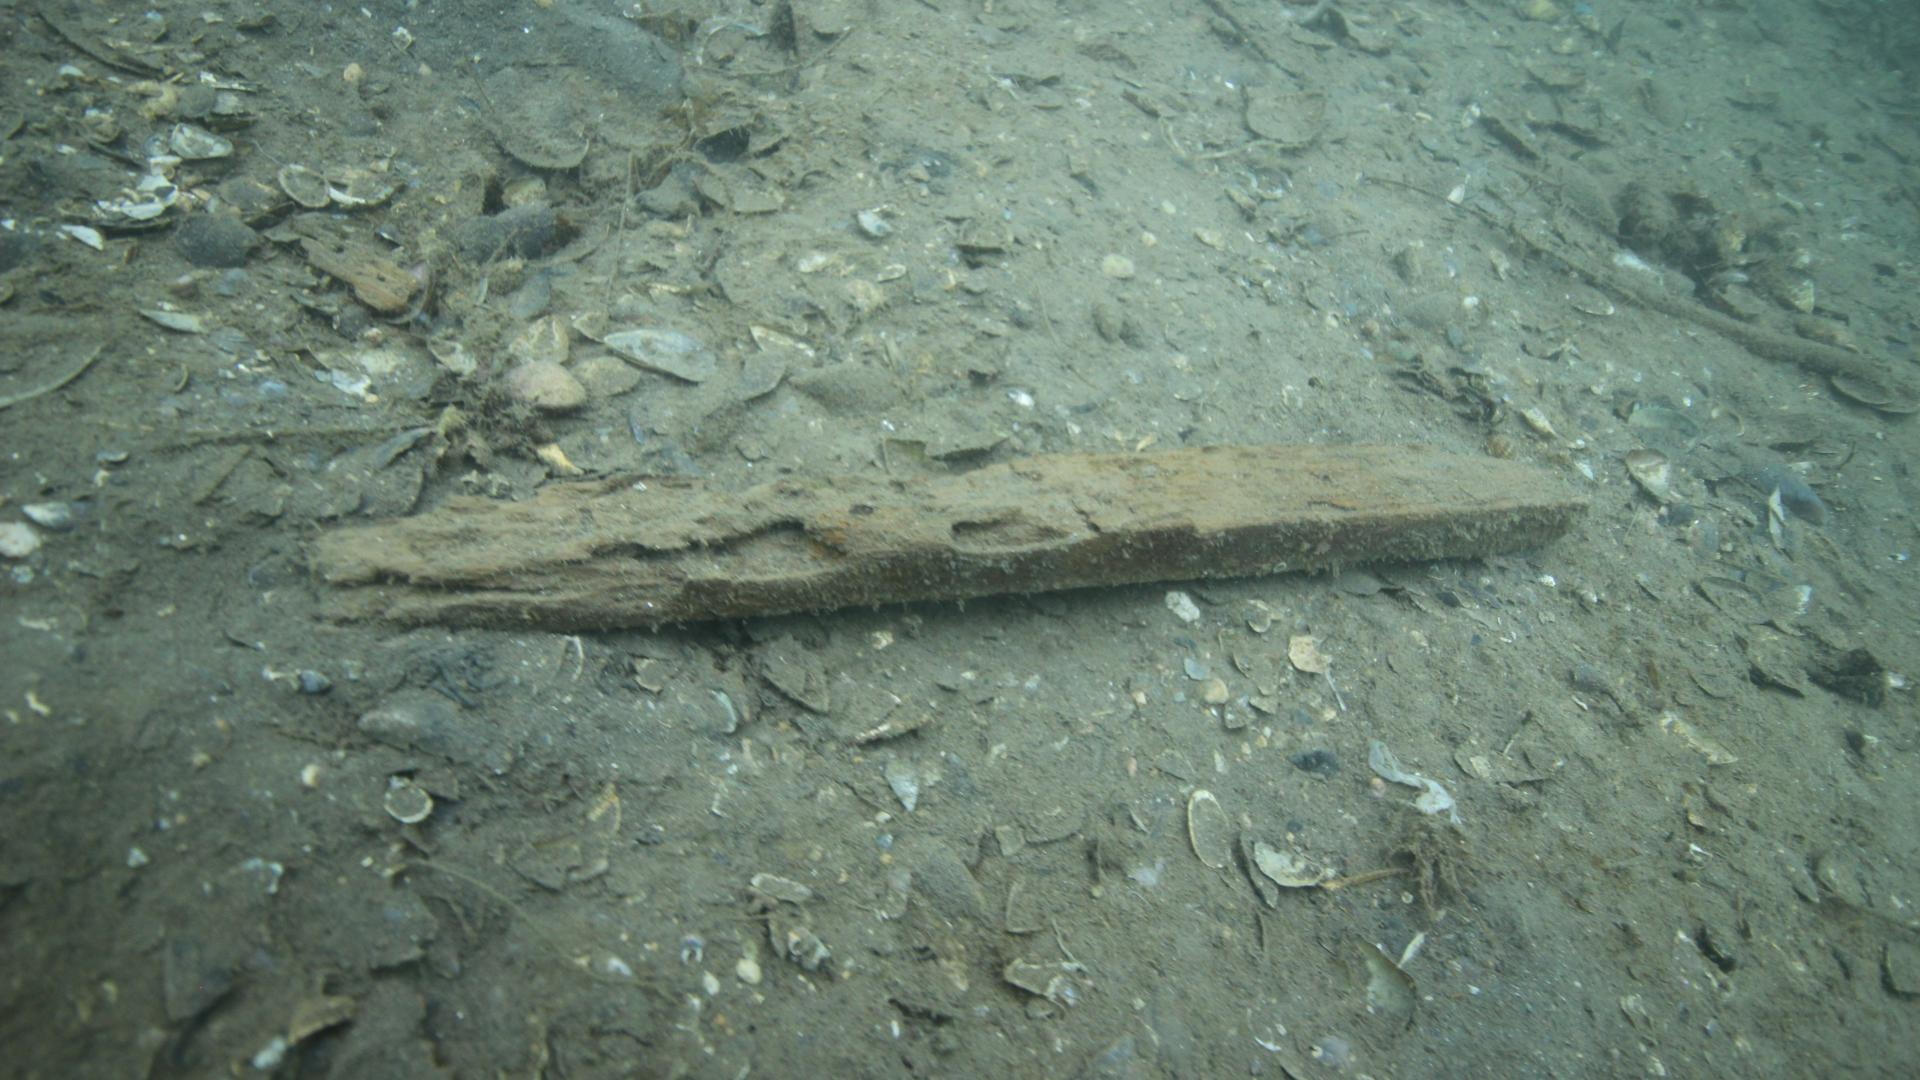wood: (305, 433, 1589, 637)
